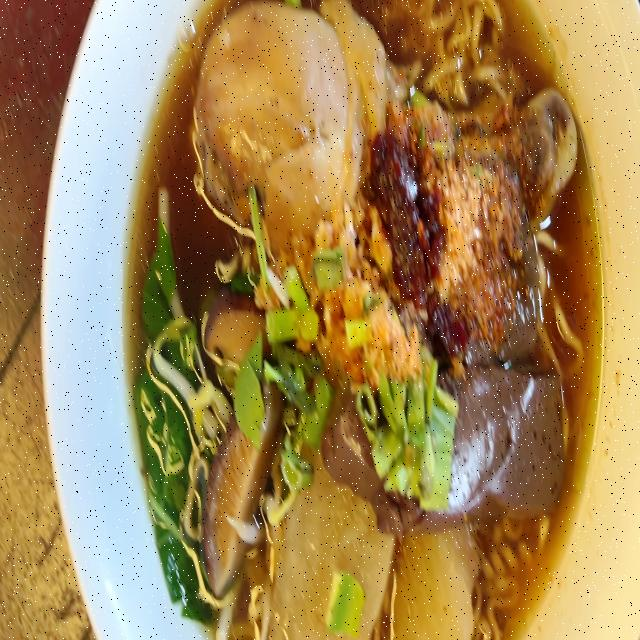boiled_chicken_blood_jelly: (450, 378, 570, 519)
chicken_drumstick: (199, 0, 576, 239)
daikon_radish: (277, 476, 468, 640)
noodle: (127, 0, 605, 640)
